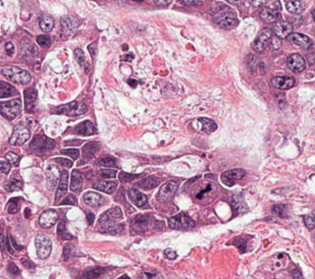nucleus: (98, 207, 123, 234), (53, 101, 86, 115), (252, 28, 271, 52), (30, 135, 54, 154), (168, 212, 194, 229), (221, 168, 245, 186), (54, 170, 67, 202), (157, 180, 177, 200), (286, 33, 312, 48), (35, 234, 51, 258), (73, 120, 96, 135), (287, 53, 305, 72), (74, 48, 88, 72), (128, 188, 146, 206), (39, 209, 57, 227), (83, 191, 103, 206), (271, 76, 294, 89), (46, 165, 59, 188), (136, 176, 159, 189), (198, 117, 216, 133), (70, 169, 82, 191), (94, 181, 116, 193), (82, 142, 98, 158), (132, 215, 148, 230), (98, 156, 117, 167), (83, 267, 103, 277), (233, 237, 246, 252), (119, 172, 138, 182), (61, 148, 78, 159), (272, 204, 286, 217), (36, 35, 50, 47), (62, 244, 72, 260), (99, 169, 116, 178), (55, 157, 71, 166), (60, 195, 75, 204), (304, 216, 314, 229), (164, 249, 176, 258), (57, 221, 64, 234), (61, 231, 72, 239), (87, 212, 94, 224), (307, 53, 313, 64)
